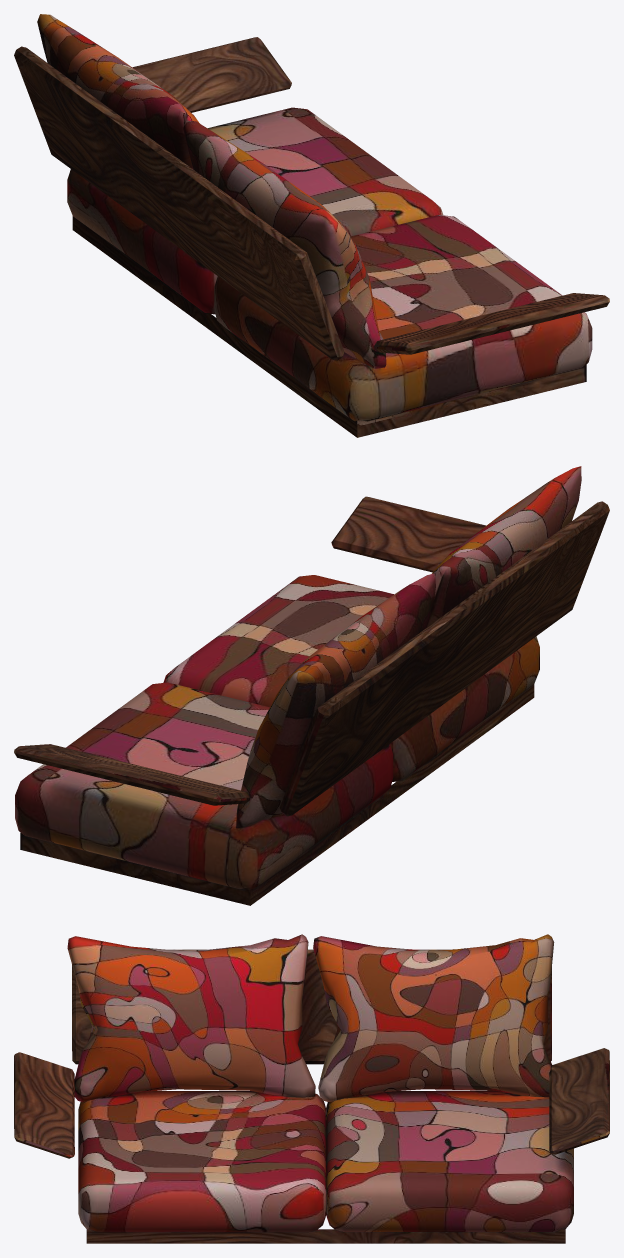
File: couch_left.glb
3 renders of one model, top to bottom at view 1: azimuth 30°, elevation 25°; view 2: azimuth 150°, elevation 25°; view 3: azimuth 270°, elevation 25°, orthographic. The views are drawn at different scales.
Visible parts, largest first — view 1: Sofa.Left.002; view 2: Sofa.Left.002; view 3: Sofa.Left.002.
Part boxes in pixels (box(x1,y1,x2,y2)): Sofa.Left.002: box(14, 14, 609, 437); Sofa.Left.002: box(14, 466, 609, 905); Sofa.Left.002: box(14, 934, 609, 1243).
Bounding box in the file's own units: 1.58 × 1.15 × 3.15.
Materials: 1 (1 with a texture image).
